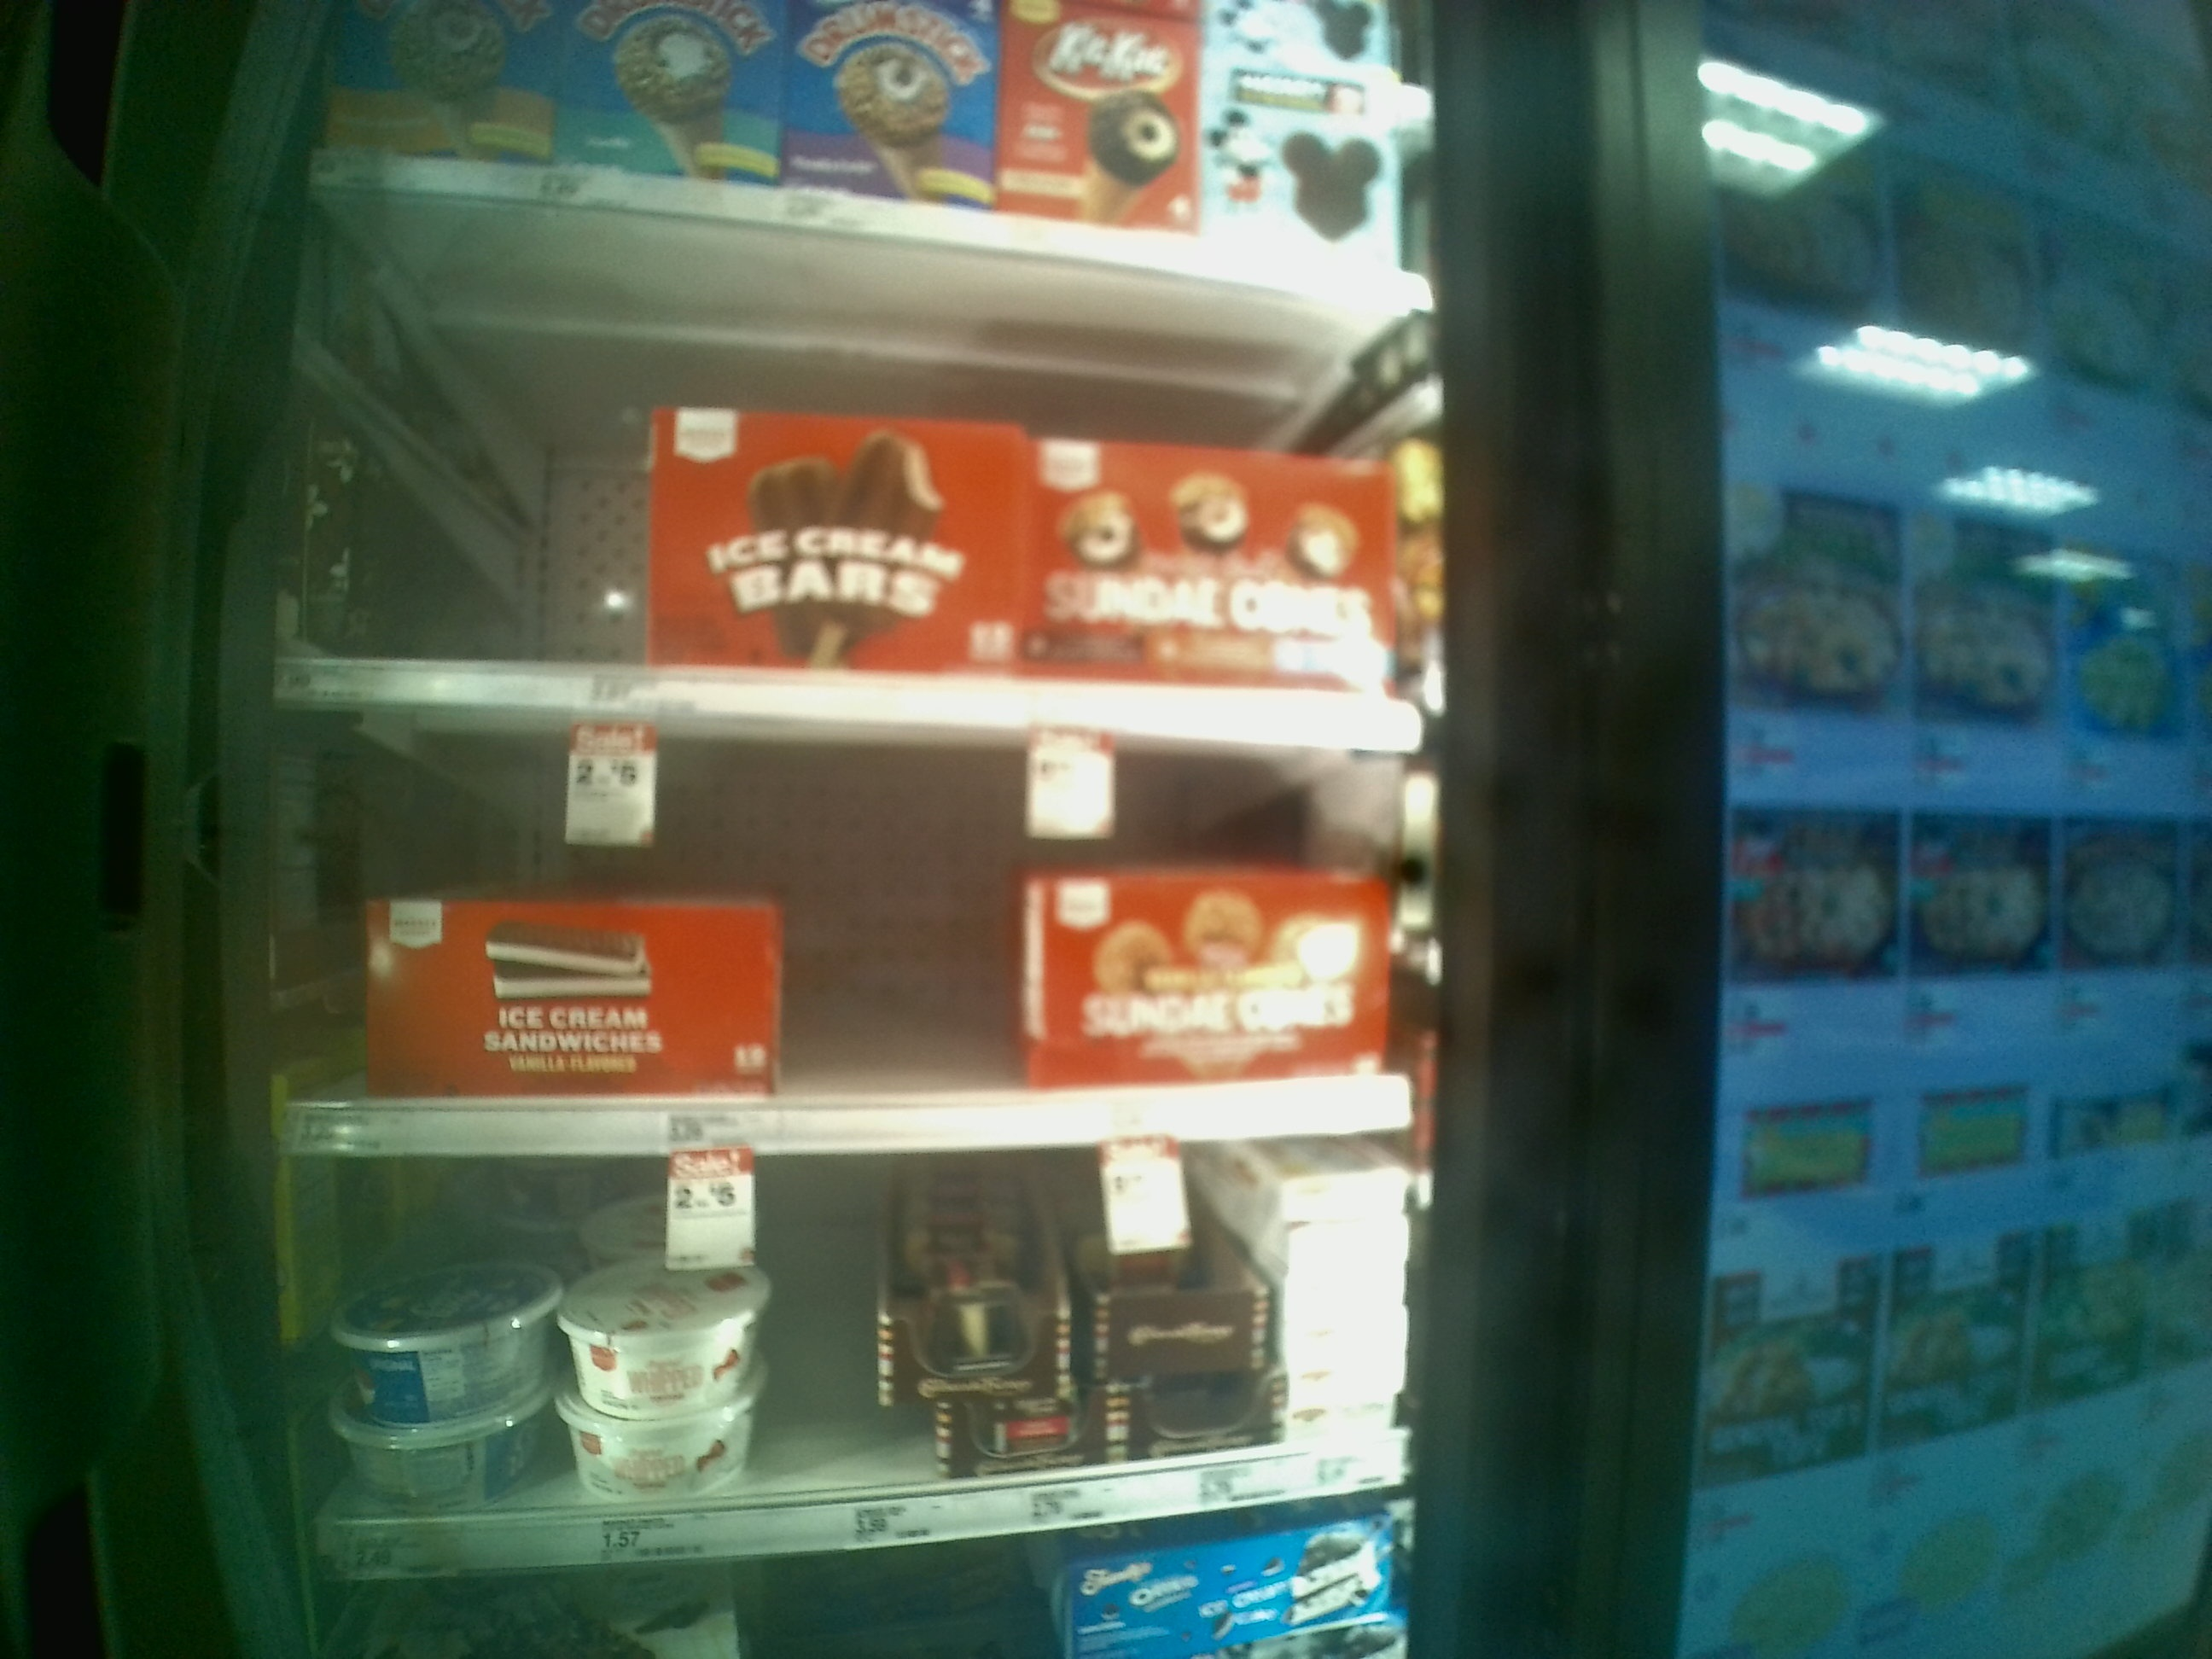shelf: (286, 181, 1433, 744), (261, 708, 1475, 1150), (265, 1154, 1435, 1593)
